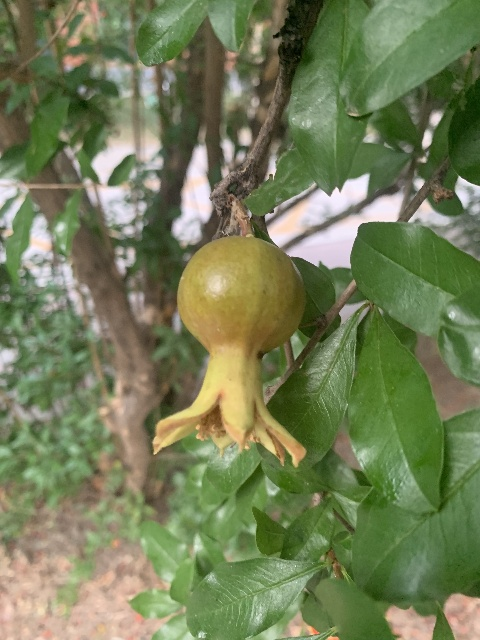mid-growth: (153, 236, 307, 466)
